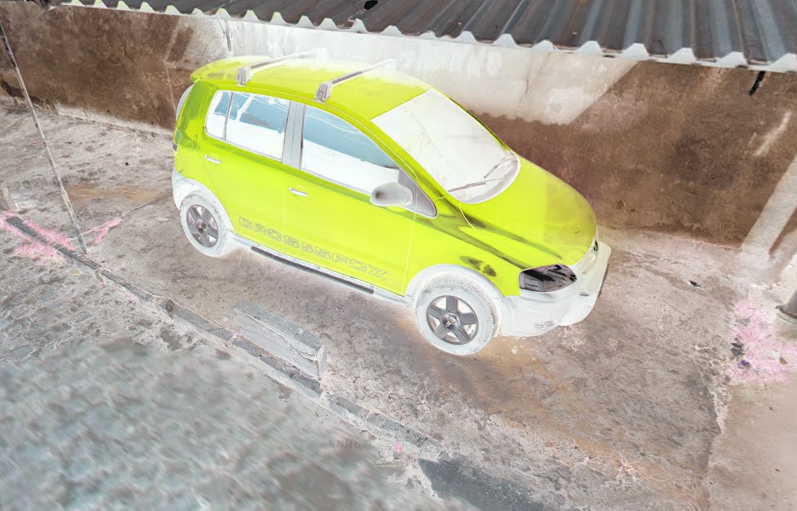car: (166, 45, 613, 357)
